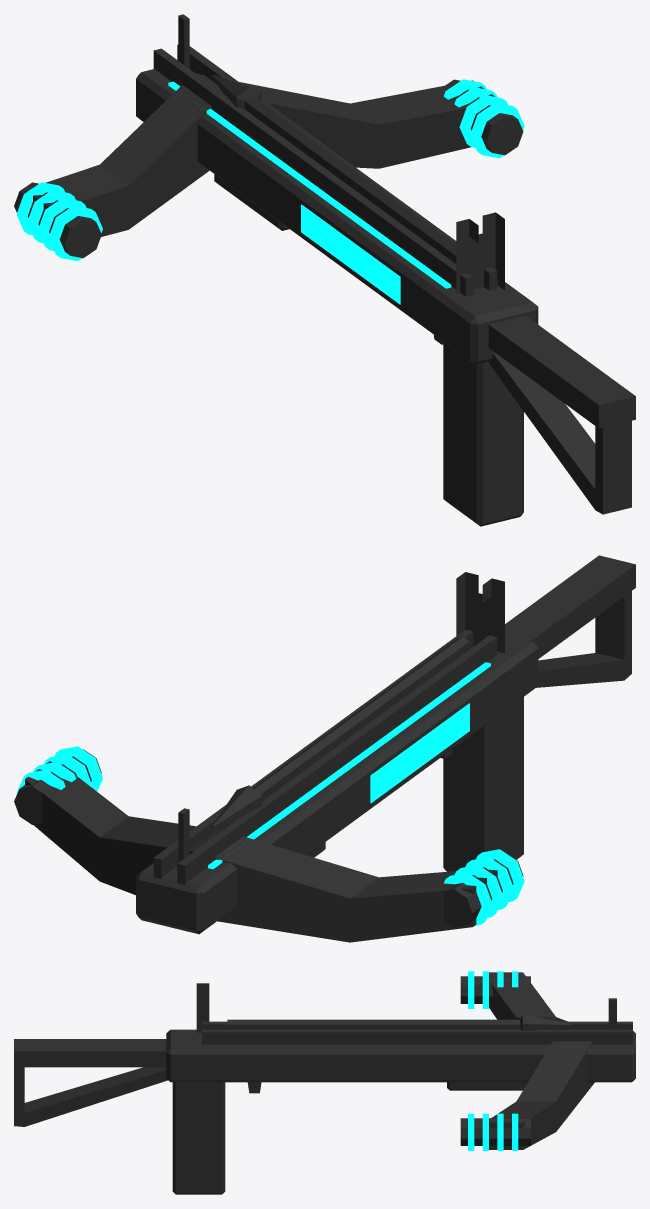
The model's file is mag_crossbow.glb.
3 views of the same model, one above another, from view 1: azimuth 30°, elevation 25°; view 2: azimuth 150°, elevation 25°; view 3: azimuth 270°, elevation 25° (orthographic). The views are drawn at different scales.
Parts seen in each view (by area): view 1: trim, frame, grip, heat_vents, heat_cell; view 2: trim, frame, grip, heat_vents, heat_cell; view 3: frame, grip, trim, heat_vents.
Part boxes in pixels (bbox=[...]): trim: bbox=[14, 73, 523, 344]; frame: bbox=[136, 14, 538, 364]; grip: bbox=[214, 174, 635, 526]; heat_vents: bbox=[16, 79, 524, 288]; heat_cell: bbox=[301, 204, 400, 304]; trim: bbox=[14, 636, 523, 942]; frame: bbox=[136, 572, 538, 934]; grip: bbox=[307, 555, 635, 871]; heat_vents: bbox=[16, 662, 524, 925]; heat_cell: bbox=[370, 703, 469, 803]; frame: bbox=[166, 983, 635, 1082]; grip: bbox=[14, 1039, 527, 1194]; trim: bbox=[227, 972, 594, 1149]; heat_vents: bbox=[468, 971, 518, 1150].
Bounding box in the file's own units: 0.358 × 0.208 × 0.592.
